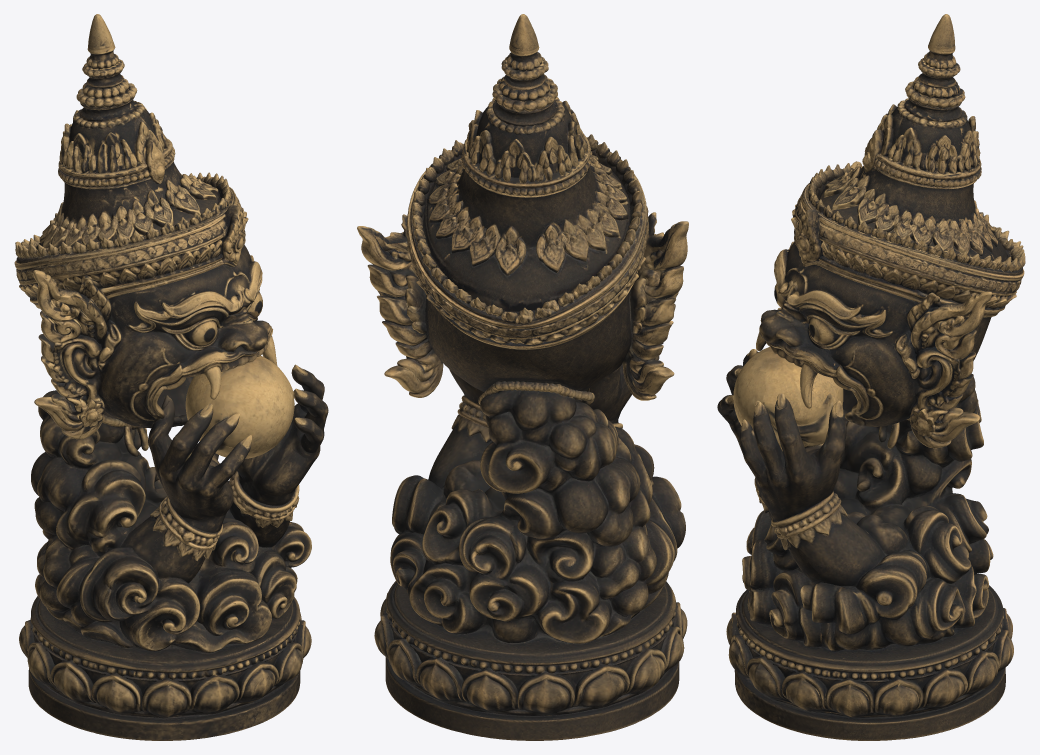
Rendered from original-rahu.glb.
The picture shows the model from 3 angles, left to right: view 1: azimuth 30°, elevation 25°; view 2: azimuth 150°, elevation 25°; view 3: azimuth 270°, elevation 25°; orthographic projection. The views are drawn at different scales.
Visible parts, largest first — view 1: Mesh_0; view 2: Mesh_0; view 3: Mesh_0.
Boxes of the visible parts, <box> form: Mesh_0: <box>14,14,328,740</box>; Mesh_0: <box>357,14,688,740</box>; Mesh_0: <box>717,14,1025,740</box>.
Bounding box in the file's own units: 0.8123 × 1.9 × 0.8114.
Materials: 1 (1 with a texture image).
